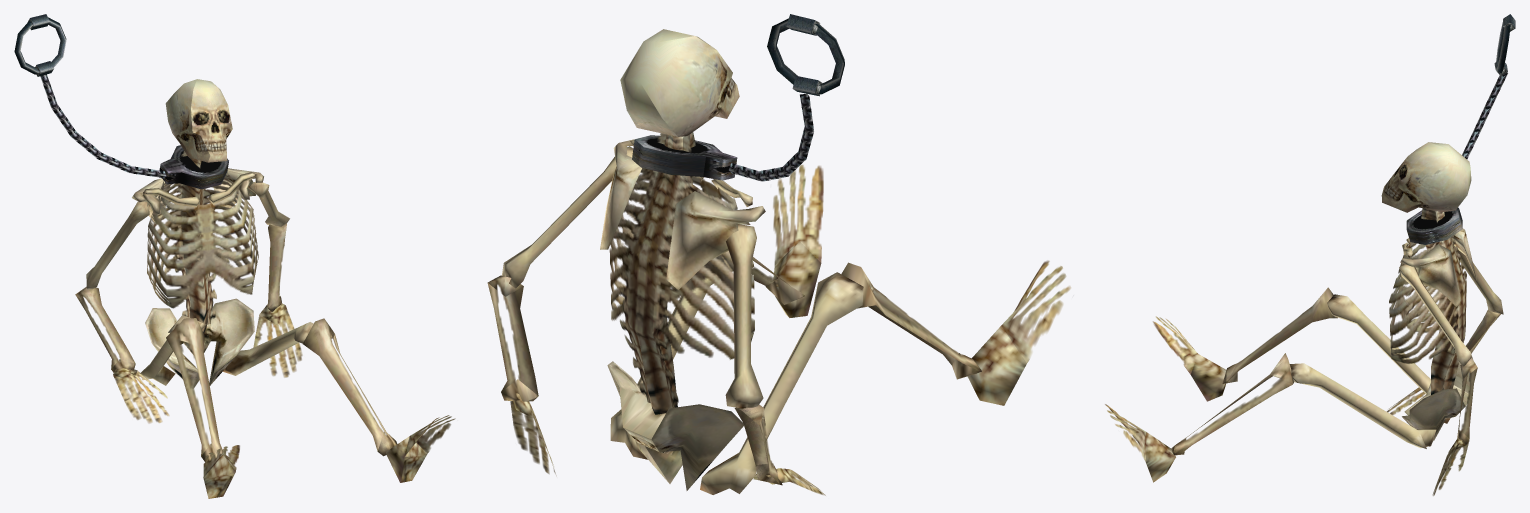
File: d_sk_sit6.glb
3 renders of one model, left to right at view 1: azimuth 30°, elevation 25°; view 2: azimuth 150°, elevation 25°; view 3: azimuth 270°, elevation 25°, orthographic. The views are drawn at different scales.
Visible parts, largest first — view 1: d_sk_sit6-col; view 2: d_sk_sit6-col; view 3: d_sk_sit6-col.
Boxes of the visible parts, x1,y1,x2,y2 form: d_sk_sit6-col: [14, 14, 455, 498]; d_sk_sit6-col: [487, 14, 1070, 495]; d_sk_sit6-col: [1105, 14, 1515, 495].
Size of the model in its own units: 0.7688 by 1.11 by 1.09.
5 materials, 5 textured.
